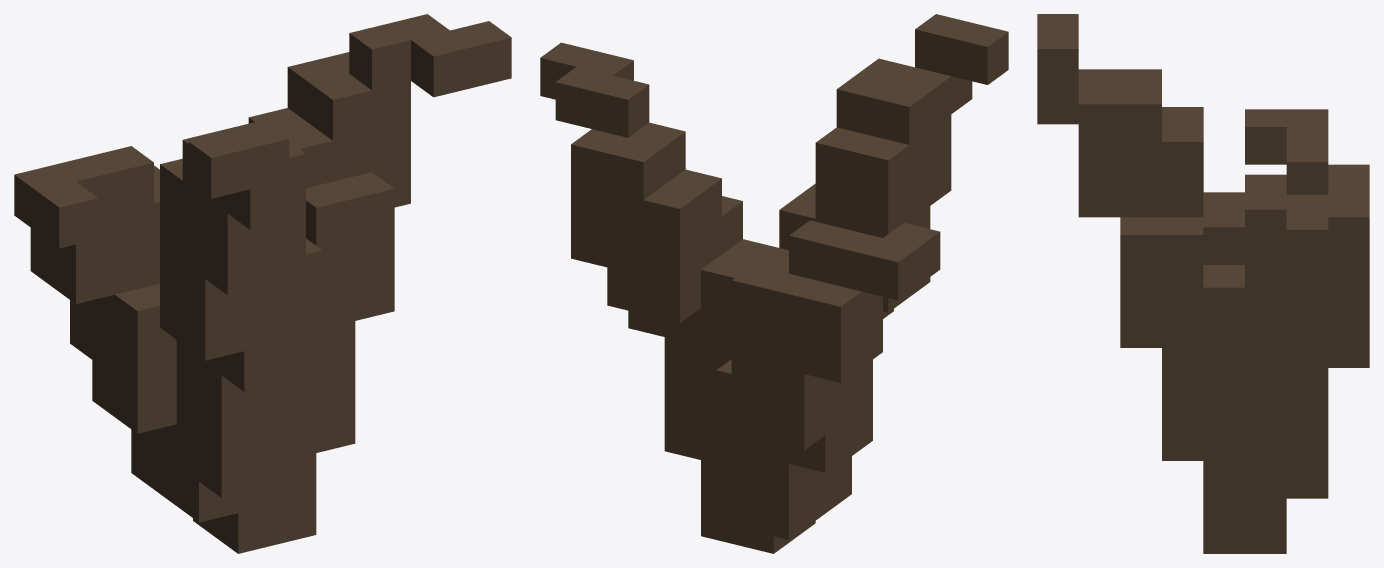
File: blueberry_young_winter.glb
The picture shows the model from 3 angles, left to right: view 1: azimuth 30°, elevation 25°; view 2: azimuth 150°, elevation 25°; view 3: azimuth 270°, elevation 25°; orthographic projection. The views are drawn at different scales.
Visible parts, largest first — view 1: VoxelVisual; view 2: VoxelVisual; view 3: VoxelVisual.
Boxes of the visible parts, x1=… form: VoxelVisual: x1=14, y1=14, x2=511, y2=553; VoxelVisual: x1=540, y1=14, x2=1008, y2=553; VoxelVisual: x1=1037, y1=14, x2=1369, y2=553.
Size of what is drawn, in the model's own units: 0.6875 by 0.75 by 0.5.
